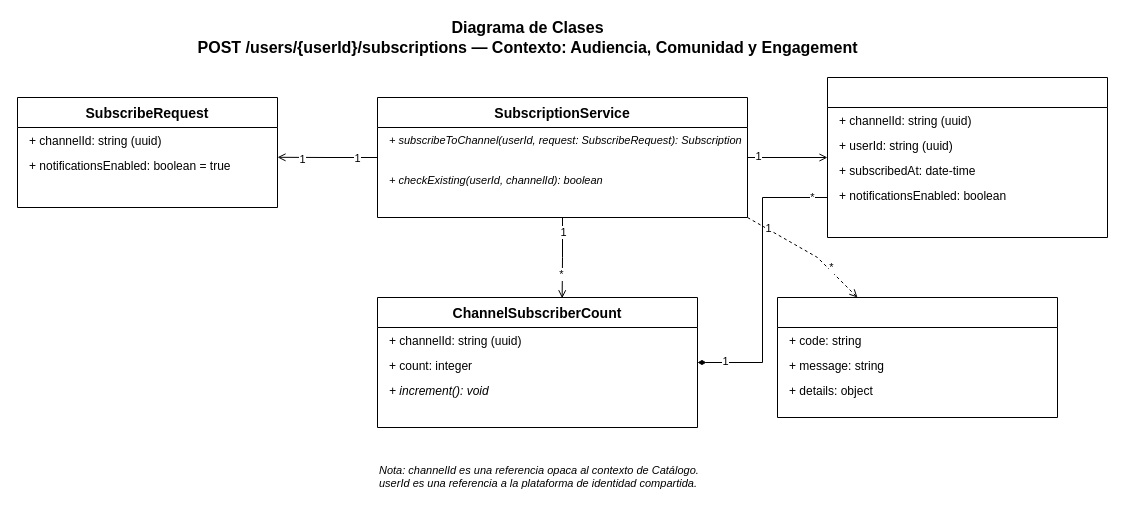
The diagram is 1125 pixels wide and 514 high, and some of its shapes have lost their labels. Each missing label, with the box of its shape:
Error: (776, 296, 1058, 418)
Subscription: (826, 76, 1108, 238)
